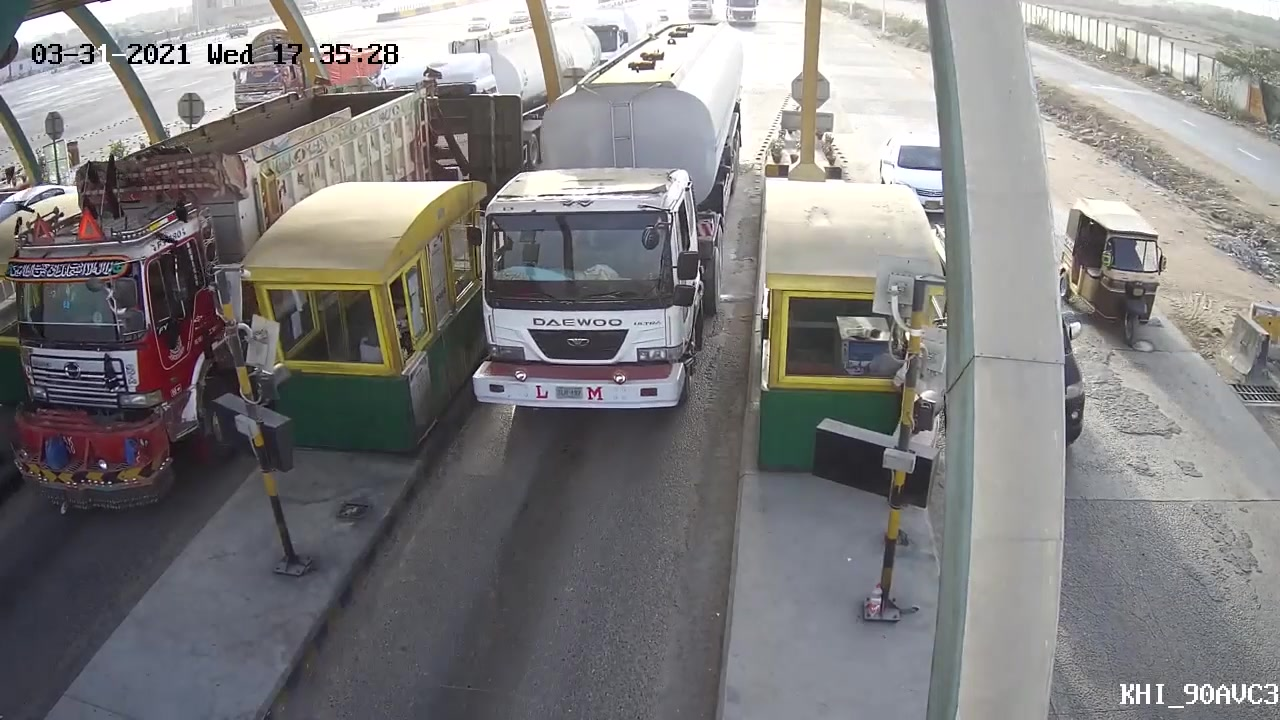F6: (468, 13, 755, 422)
